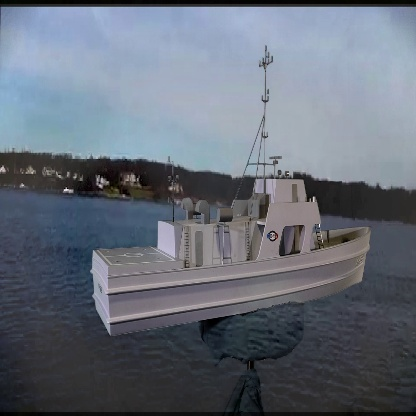YP689: (90, 45, 372, 338)
